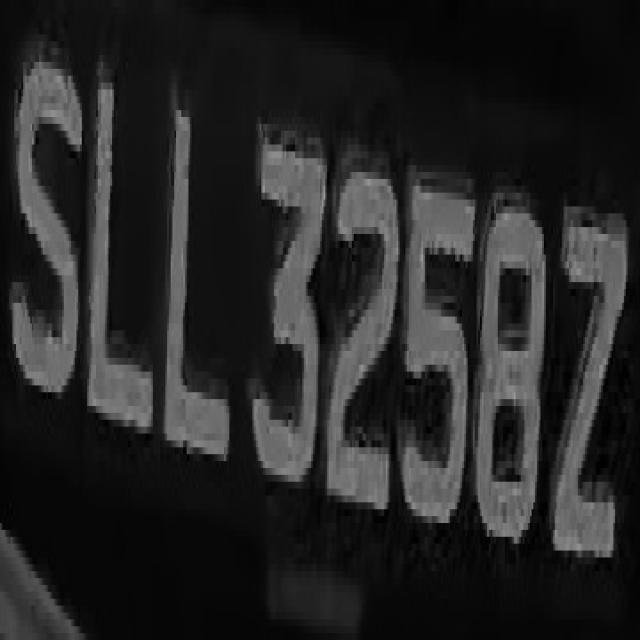2: (329, 131, 403, 544)
3: (251, 103, 325, 482)
5: (409, 131, 476, 557)
8: (474, 158, 548, 564)
L: (80, 55, 160, 447), (167, 76, 235, 482)
S: (14, 34, 80, 413)
Z: (554, 158, 626, 585)
